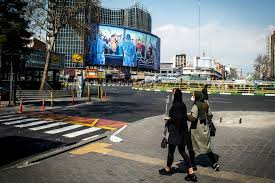mask: (190, 92, 200, 102)
